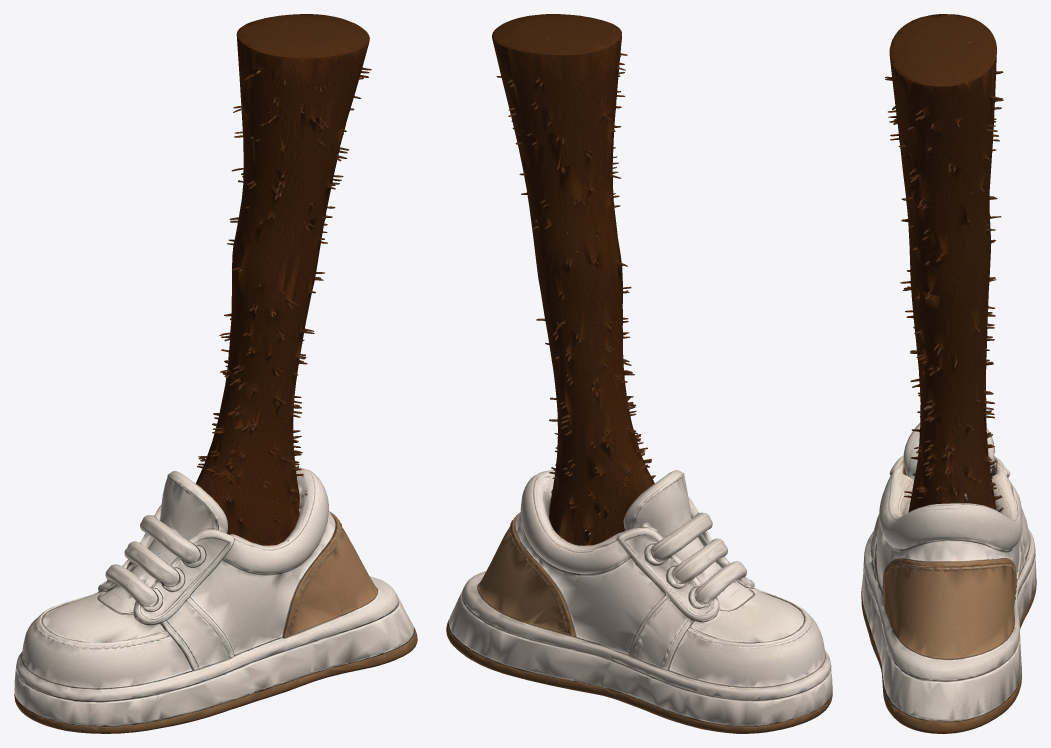
File: part-leg-r.glb
3 views of the same model, side by side, from view 1: azimuth 30°, elevation 25°; view 2: azimuth 150°, elevation 25°; view 3: azimuth 270°, elevation 25° (orthographic). The views are drawn at different scales.
Visible parts, largest first — view 1: mesh_node; view 2: mesh_node; view 3: mesh_node.
Part boxes in pixels (x1,y1,x2,y2): mesh_node: [14, 14, 417, 733]; mesh_node: [446, 14, 832, 733]; mesh_node: [861, 14, 1036, 733].
Size of the model in its own units: 1.2 by 1.9 by 0.471.
1 material, 1 textured.
